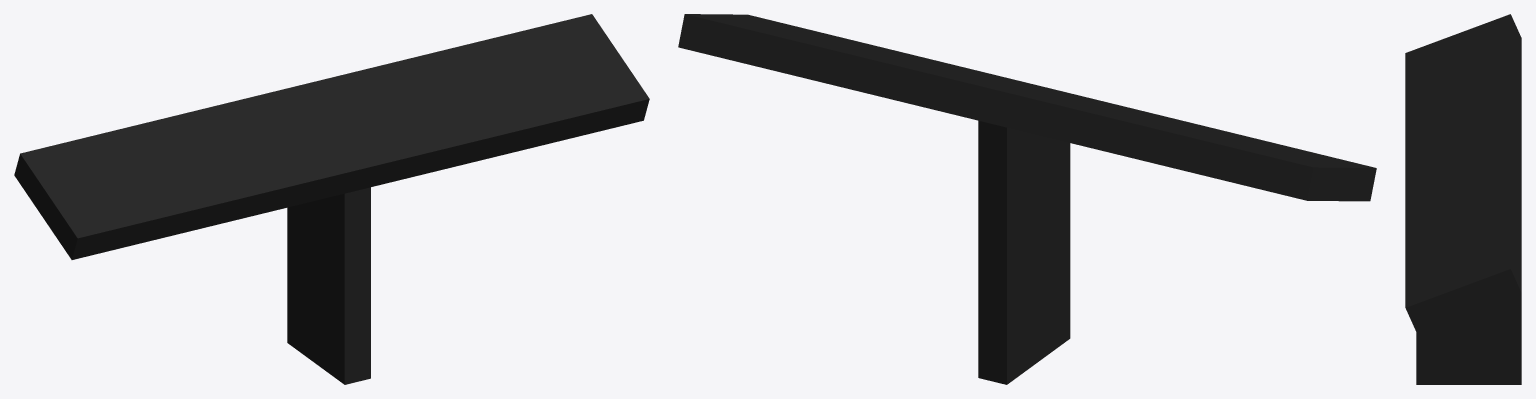
Rendered from spoiler2.glb.
3 views of the same model, side by side, from view 1: azimuth 30°, elevation 25°; view 2: azimuth 150°, elevation 25°; view 3: azimuth 270°, elevation 25° (orthographic). The views are drawn at different scales.
Visible parts, largest first — view 1: spoiler2; view 2: spoiler2; view 3: spoiler2.
Part boxes in pixels (x1,y1,x2,y2): spoiler2: [14, 14, 649, 384]; spoiler2: [678, 14, 1376, 384]; spoiler2: [1405, 14, 1521, 384].
Bounding box in the file's own units: 1.84 × 0.8018 × 0.3546.
Materials: 1 (1 with a texture image).
